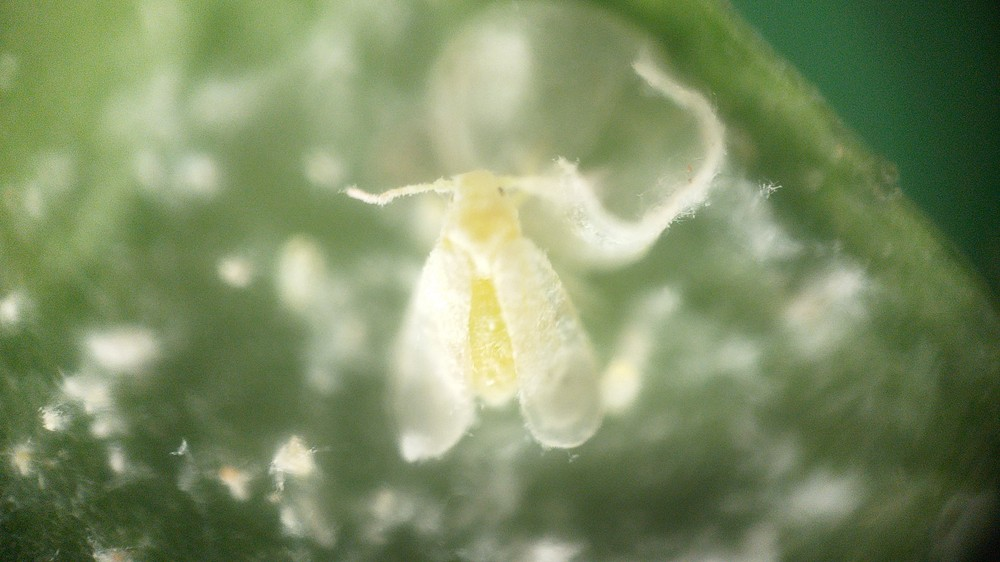Mosca Blanca: (317, 148, 676, 470)
